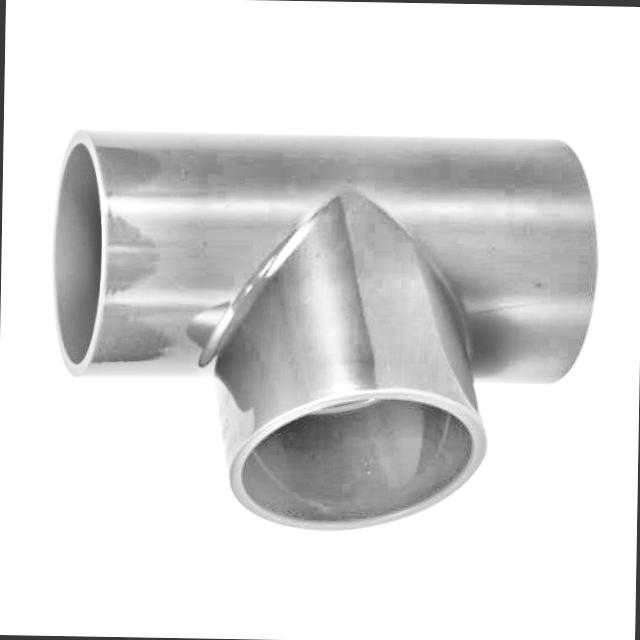EQUALTEE: (52, 126, 601, 526)
